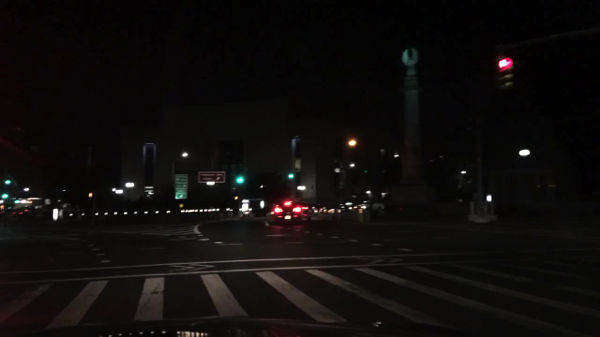car: (272, 199, 303, 224), (354, 202, 383, 212), (303, 205, 312, 218), (320, 206, 336, 213), (312, 205, 322, 212), (335, 207, 343, 213)
traffic light: (496, 53, 512, 90), (234, 172, 245, 186), (5, 178, 13, 188), (0, 194, 8, 201), (87, 190, 93, 199), (288, 171, 293, 181)
traffic sign: (198, 170, 226, 183), (176, 173, 188, 186), (176, 187, 188, 200)
